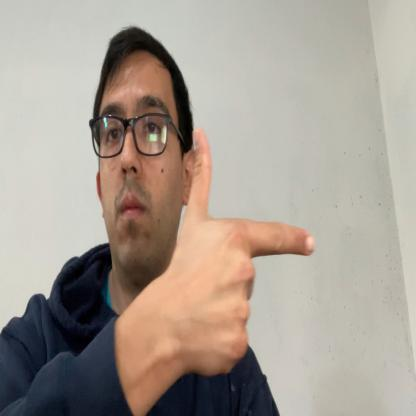G: (177, 126, 316, 374)
